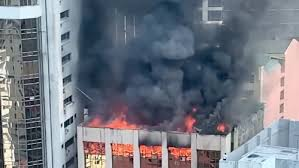smoke: (77, 2, 270, 129)
